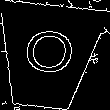O_S: (19, 28, 76, 84)
